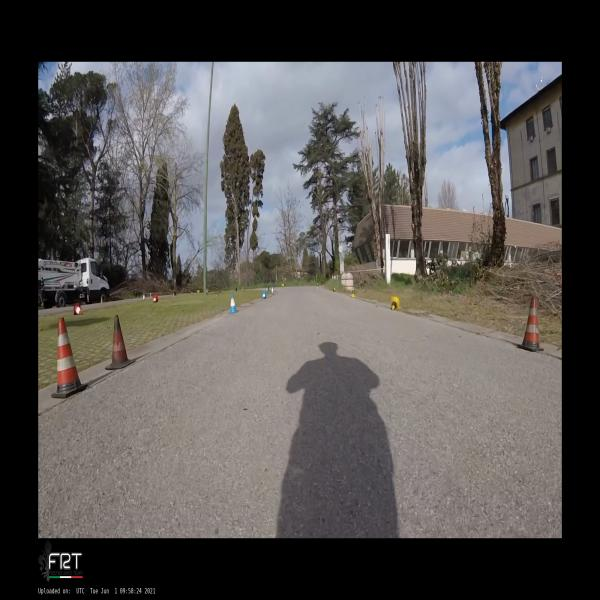blue_cone: (228, 294, 239, 314), (262, 292, 267, 299), (271, 287, 274, 294), (143, 292, 145, 300), (266, 287, 269, 291)
large_orange_cone: (51, 318, 88, 398), (516, 297, 544, 351)
orange_cone: (74, 304, 82, 315), (153, 294, 158, 302)
unknown_cone: (105, 315, 136, 370)
yellow_cone: (391, 296, 399, 311), (351, 288, 355, 298), (332, 288, 336, 292), (281, 284, 284, 288), (197, 290, 200, 294), (241, 286, 243, 290), (317, 283, 318, 289)
